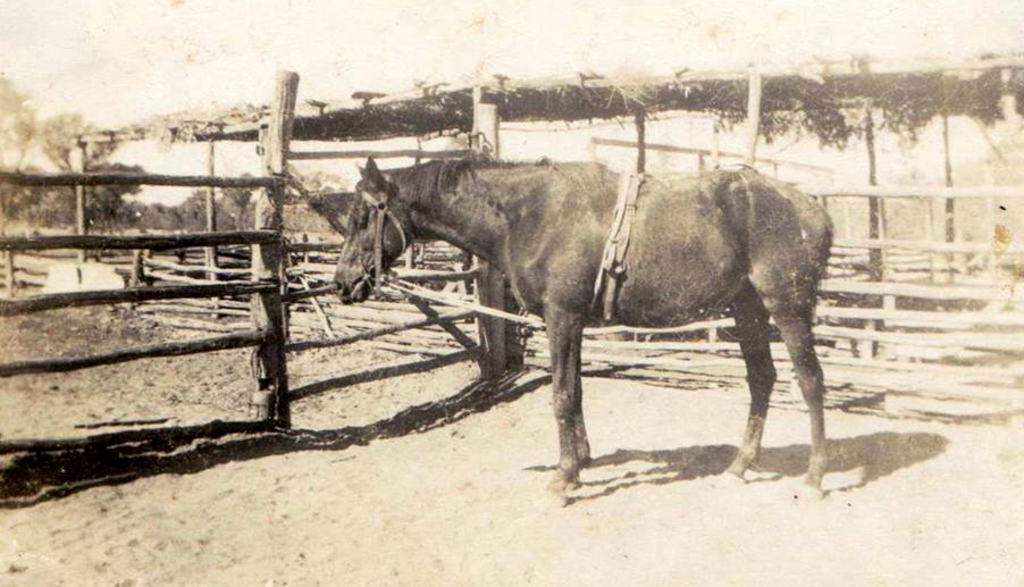horse: (331, 152, 833, 510)
